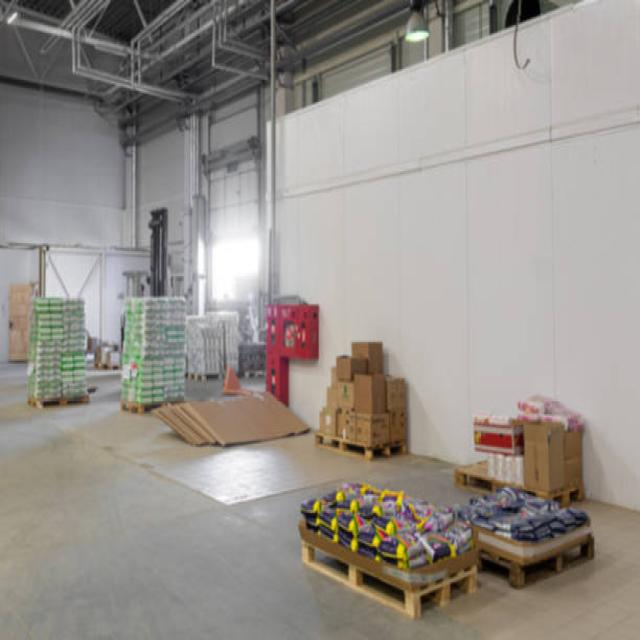Wooden-Pallets: (297, 532, 482, 627), (516, 526, 597, 599), (307, 429, 408, 466), (22, 386, 88, 416)
